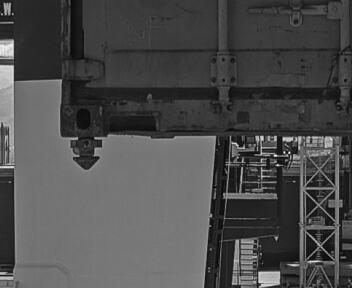twist_lock_2: (259, 123, 285, 147)
